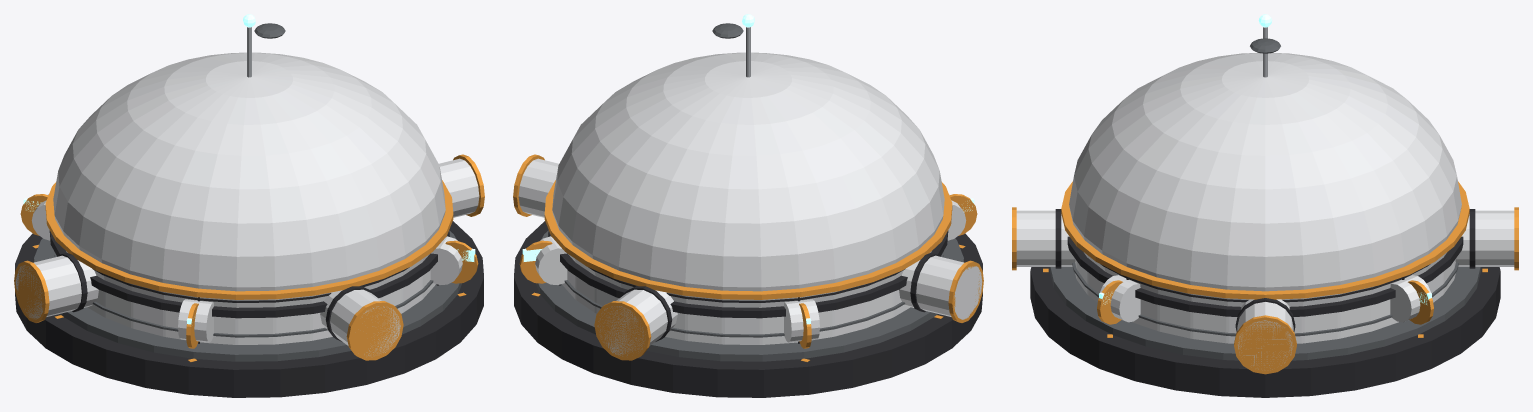
Rendered from SM_Hero_Commons.glb.
3 views of the same model, side by side, from view 1: azimuth 30°, elevation 25°; view 2: azimuth 150°, elevation 25°; view 3: azimuth 270°, elevation 25° (orthographic).
Visible parts, largest first — view 1: SM_Hero_Commons; view 2: SM_Hero_Commons; view 3: SM_Hero_Commons.
Part boxes in pixels (x1,y1,x2,y2): SM_Hero_Commons: (14, 14, 484, 397); SM_Hero_Commons: (513, 14, 983, 397); SM_Hero_Commons: (1012, 14, 1518, 397).
Size of the model in its own units: 9 by 6.23 by 9.
